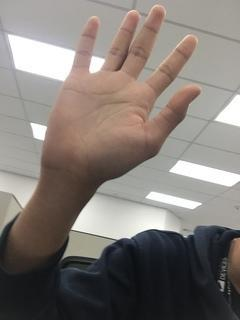hand: (40, 4, 203, 178)
